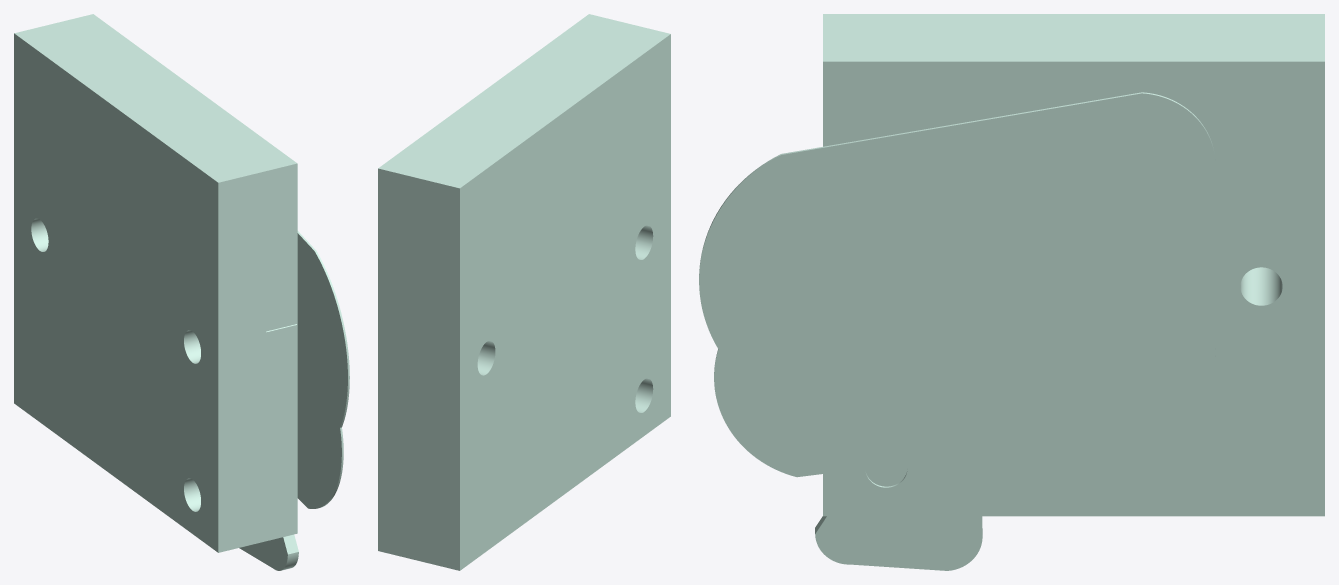
3 views of the same model, side by side, from view 1: azimuth 30°, elevation 25°; view 2: azimuth 150°, elevation 25°; view 3: azimuth 270°, elevation 25° (orthographic). The views are drawn at different scales.
Parts seen in each view (by area): view 1: Renderer Node; view 2: Renderer Node; view 3: Renderer Node.
Part boxes in pixels (x1,y1,x2,y2): Renderer Node: (14, 14, 349, 570); Renderer Node: (378, 14, 670, 570); Renderer Node: (699, 14, 1324, 570).
Size of the model in its own units: 0.3438 by 1.68 by 1.87.
